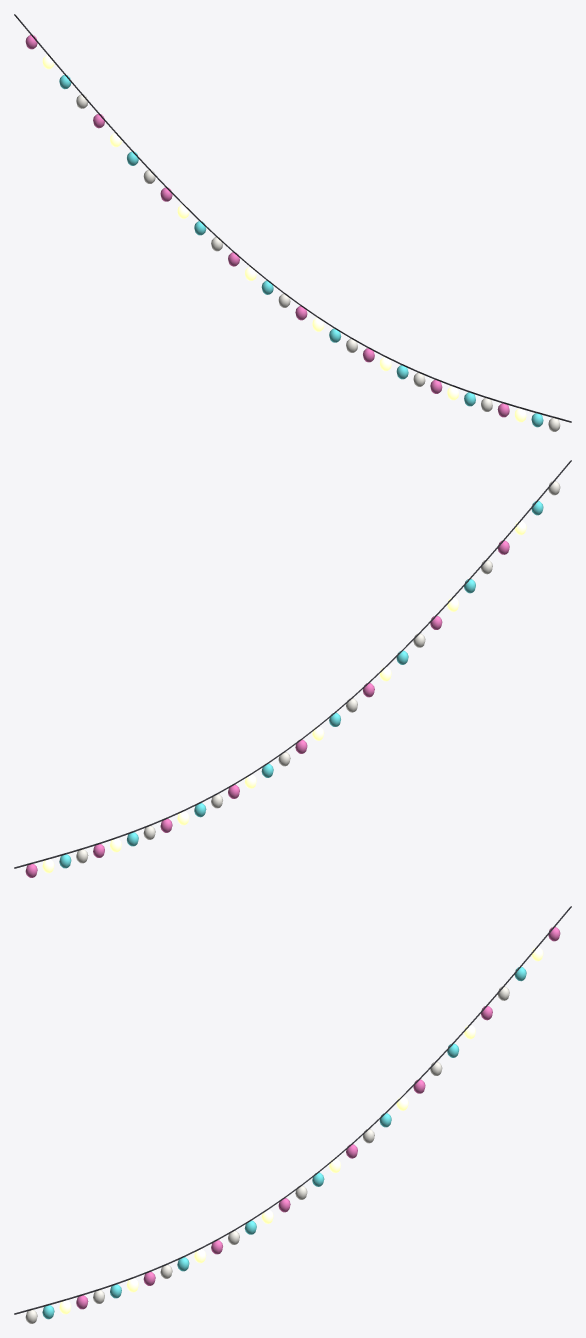
Rendered from SM_StringLights.fbx.
3 views of the same model, one above another, from view 1: azimuth 30°, elevation 25°; view 2: azimuth 150°, elevation 25°; view 3: azimuth 330°, elevation 25° (orthographic).
Visible parts, largest first — view 1: SM_StringLights; view 2: SM_StringLights; view 3: SM_StringLights.
Boxes of the visible parts, <box> form: SM_StringLights: <box>14,14,571,431</box>; SM_StringLights: <box>14,460,571,877</box>; SM_StringLights: <box>14,906,571,1323</box>.
Size of the model in its own units: 0.14 by 1.18 by 12.4.
